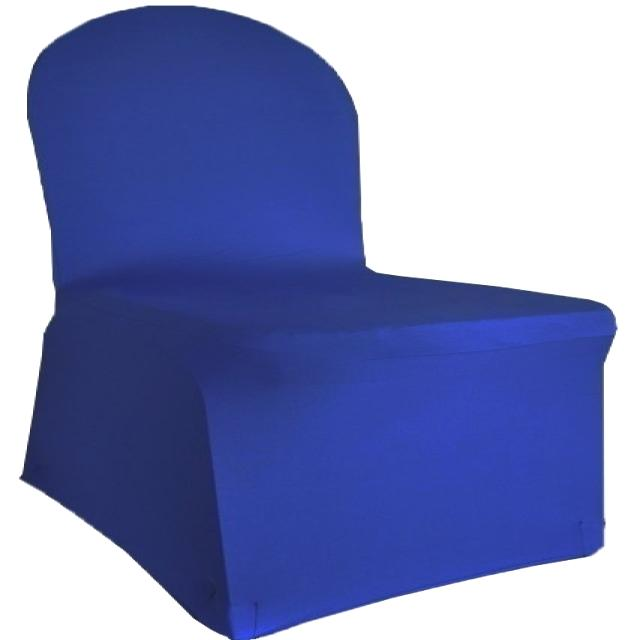Chair: (22, 2, 620, 640)
